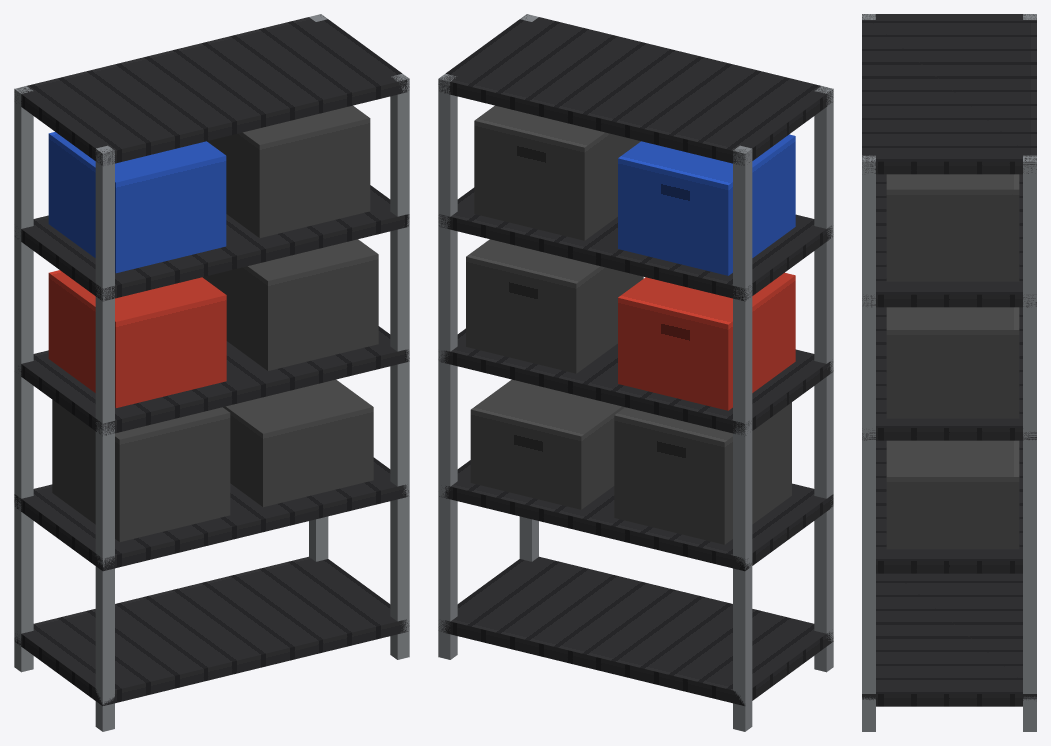
File: f_utility_shelf.glb
3 renders of one model, left to right at view 1: azimuth 30°, elevation 25°; view 2: azimuth 150°, elevation 25°; view 3: azimuth 270°, elevation 25°, orthographic.
Visible parts, largest first — view 1: block_shelf4, block_shelf0, block_bin10, block_bin30, block_bin20, block_bin21, block_bin31, block_bin11, block_post-0.50.21, block_shelf1, block_shelf2, block_shelf3 (+3 smaller); view 2: block_shelf4, block_shelf0, block_bin10, block_bin30, block_bin20, block_bin21, block_bin31, block_bin11, block_post-0.5-0.25, block_post0.46-0.25, block_post-0.50.21, block_shelf1 (+3 smaller); view 3: block_shelf4, block_shelf0, block_bin21, block_bin11, block_bin31, block_post0.46-0.25, block_post0.460.21, block_shelf3, block_shelf1, block_shelf2.
Boxes of the visible parts, x1=… form: block_shelf4: x1=14, y1=15, x2=409, y2=165; block_shelf0: x1=14, y1=556, x2=409, y2=705; block_bin10: x1=52, y1=400, x2=230, y2=541; block_bin30: x1=48, y1=132, x2=226, y2=273; block_bin20: x1=48, y1=270, x2=226, y2=407; block_bin21: x1=202, y1=239, x2=378, y2=370; block_bin31: x1=207, y1=105, x2=370, y2=237; block_bin11: x1=223, y1=379, x2=373, y2=507; block_post-0.50.21: x1=95, y1=145, x2=114, y2=731; block_shelf1: x1=14, y1=457, x2=408, y2=571; block_shelf2: x1=18, y1=326, x2=409, y2=435; block_shelf3: x1=15, y1=185, x2=409, y2=301; block_shelf4: x1=438, y1=14, x2=833, y2=165; block_shelf0: x1=438, y1=556, x2=833, y2=705; block_bin10: x1=614, y1=402, x2=791, y2=544; block_bin30: x1=618, y1=134, x2=795, y2=275; block_bin20: x1=618, y1=272, x2=795, y2=410; block_bin21: x1=466, y1=239, x2=643, y2=373; block_bin31: x1=474, y1=105, x2=640, y2=240; block_bin11: x1=470, y1=379, x2=624, y2=509; block_post-0.5-0.25: x1=733, y1=145, x2=752, y2=731; block_post0.46-0.25: x1=438, y1=73, x2=457, y2=659; block_post-0.50.21: x1=814, y1=86, x2=833, y2=672; block_shelf1: x1=439, y1=460, x2=833, y2=571; block_shelf4: x1=862, y1=14, x2=1036, y2=174; block_shelf0: x1=862, y1=573, x2=1036, y2=706; block_bin21: x1=886, y1=307, x2=1019, y2=418; block_bin11: x1=886, y1=440, x2=1019, y2=549; block_bin31: x1=886, y1=174, x2=1019, y2=281; block_post0.46-0.25: x1=1023, y1=155, x2=1036, y2=731; block_post0.460.21: x1=862, y1=155, x2=875, y2=731; block_shelf3: x1=862, y1=174, x2=1036, y2=307; block_shelf1: x1=876, y1=440, x2=1022, y2=573; block_shelf2: x1=862, y1=307, x2=1036, y2=440.
Bounding box in the file's own units: 1 × 1.8 × 0.5.
2 materials, 2 textured.
